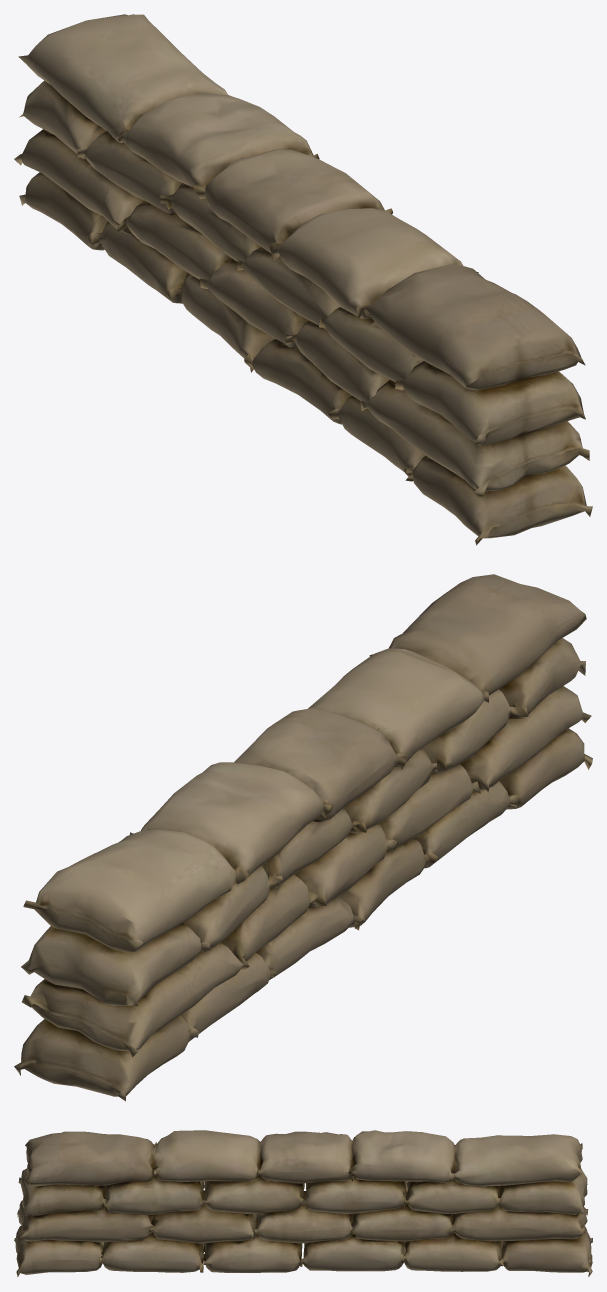
File: prop_sandbags.glb
3 renders of one model, top to bottom at view 1: azimuth 30°, elevation 25°; view 2: azimuth 150°, elevation 25°; view 3: azimuth 270°, elevation 25°, orthographic. The views are drawn at different scales.
Visible parts, largest first — view 1: tripo_node_1793abdd-6017-44ae-9e8b-fc4a28457238; view 2: tripo_node_1793abdd-6017-44ae-9e8b-fc4a28457238; view 3: tripo_node_1793abdd-6017-44ae-9e8b-fc4a28457238.
Boxes of the visible parts, bbox=[...] form: tripo_node_1793abdd-6017-44ae-9e8b-fc4a28457238: bbox=[14, 14, 592, 545]; tripo_node_1793abdd-6017-44ae-9e8b-fc4a28457238: bbox=[14, 574, 592, 1101]; tripo_node_1793abdd-6017-44ae-9e8b-fc4a28457238: bbox=[14, 1130, 592, 1276].
Size of the model in its own units: 0.1679 by 0.2345 by 1.
1 material, 1 textured.
